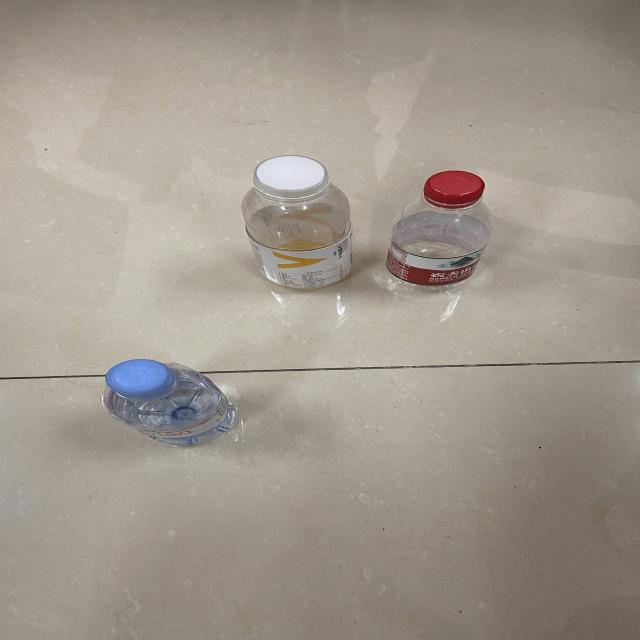Anorganik: (238, 151, 357, 297), (390, 157, 492, 296), (100, 362, 246, 454)
